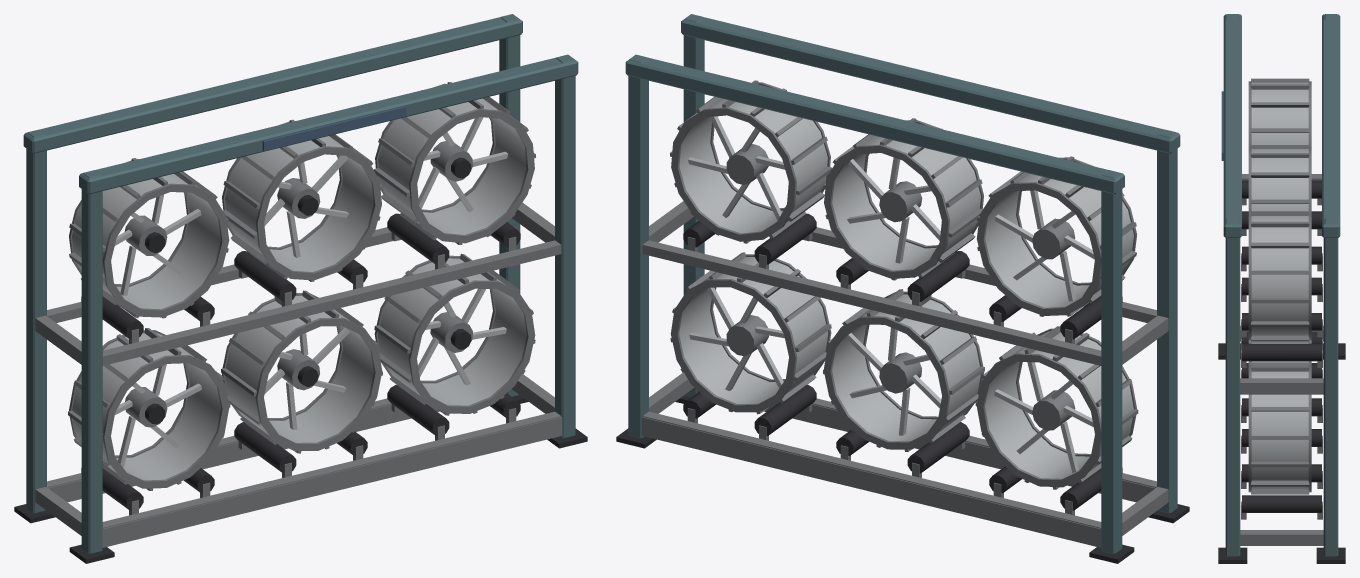
Rendered from astro_rover_wheel_rack.fbx.
3 renders of one model, left to right at view 1: azimuth 30°, elevation 25°; view 2: azimuth 150°, elevation 25°; view 3: azimuth 270°, elevation 25°, orthographic. The views are drawn at different scales.
Parts seen in each view (by area): view 1: RoverWheelRack_Body; view 2: RoverWheelRack_Body; view 3: RoverWheelRack_Body.
Boxes of the visible parts, left/top/right/bottom form: RoverWheelRack_Body: left=14, top=14, right=587, bottom=563; RoverWheelRack_Body: left=616, top=14, right=1189, bottom=563; RoverWheelRack_Body: left=1218, top=14, right=1345, bottom=563.
Size of the model in its own units: 282 by 205 by 70.
